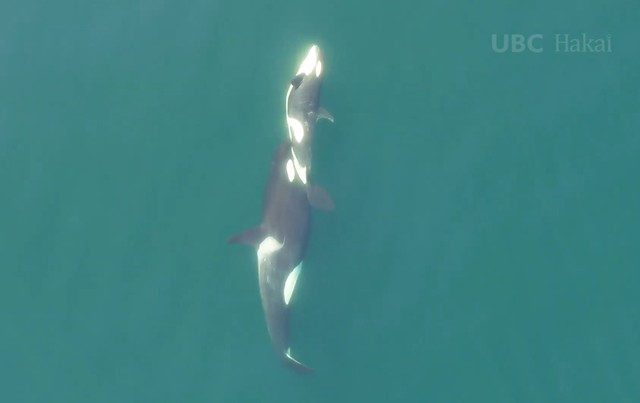whale: (223, 134, 328, 383), (277, 38, 345, 218)
